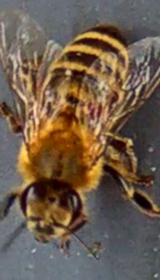varroa_mite: (76, 96, 124, 135)
